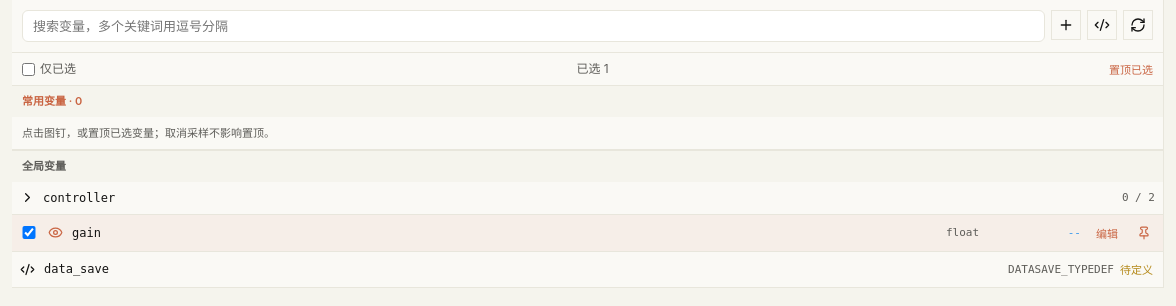
Scenario: SymbolVariablePanel › shows all multi-keyword matches in the unpinned directory
Type "gain, target" into the field with test id "variable-search" at (534,26), box x1=22 y1=10 x2=1045 y2=42
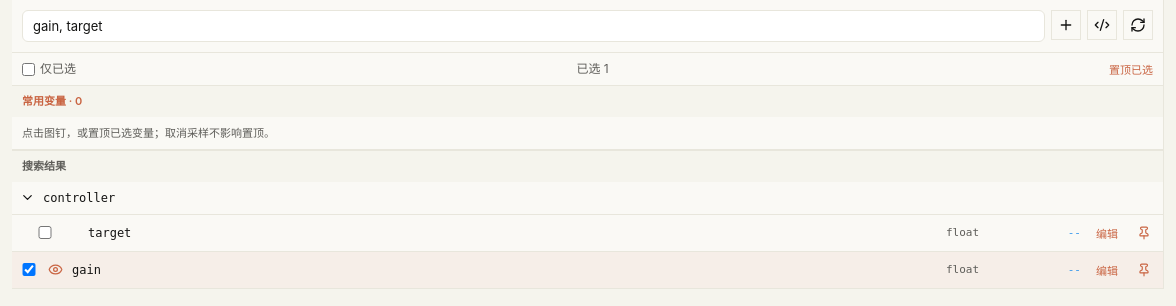
Expected: the element with test id "leaf-gain" is shown, x1=12 y1=252 x2=1163 y2=288
Result: the element with test id "leaf-controller.target" is shown at x1=12 y1=214 x2=1163 y2=252
